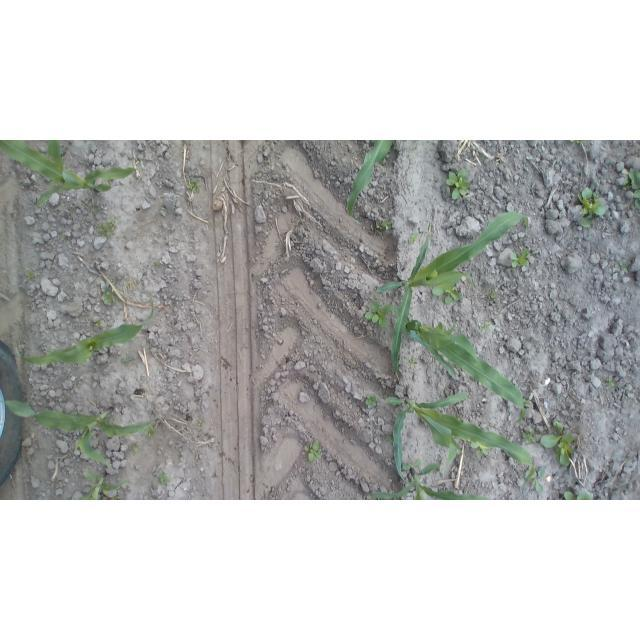Maize: (375, 205, 531, 384), (386, 388, 538, 489), (408, 317, 526, 428), (1, 398, 159, 467), (13, 293, 155, 367), (1, 140, 142, 209), (364, 458, 493, 500), (346, 141, 396, 220), (80, 470, 128, 500)
Weeds: (539, 419, 574, 469), (574, 184, 606, 229), (363, 298, 394, 330), (444, 168, 471, 203), (621, 166, 640, 210), (526, 464, 549, 495), (93, 216, 119, 239), (508, 245, 531, 268), (432, 287, 461, 305), (304, 439, 322, 464), (563, 488, 594, 501), (100, 281, 115, 304), (520, 427, 537, 446), (374, 218, 393, 234), (471, 443, 489, 458), (402, 458, 422, 471), (364, 392, 379, 409), (186, 178, 202, 193), (477, 320, 492, 336), (408, 232, 421, 246), (158, 473, 173, 485), (618, 259, 630, 274), (25, 268, 35, 282), (384, 433, 394, 446), (605, 377, 616, 388), (92, 318, 102, 330), (145, 426, 155, 438), (122, 356, 135, 365), (405, 358, 418, 366), (152, 261, 161, 269), (132, 442, 140, 450), (60, 235, 69, 242), (491, 291, 498, 300), (570, 140, 585, 144), (125, 282, 132, 290), (199, 421, 206, 428), (161, 208, 167, 213), (92, 204, 97, 209), (111, 497, 117, 499)
